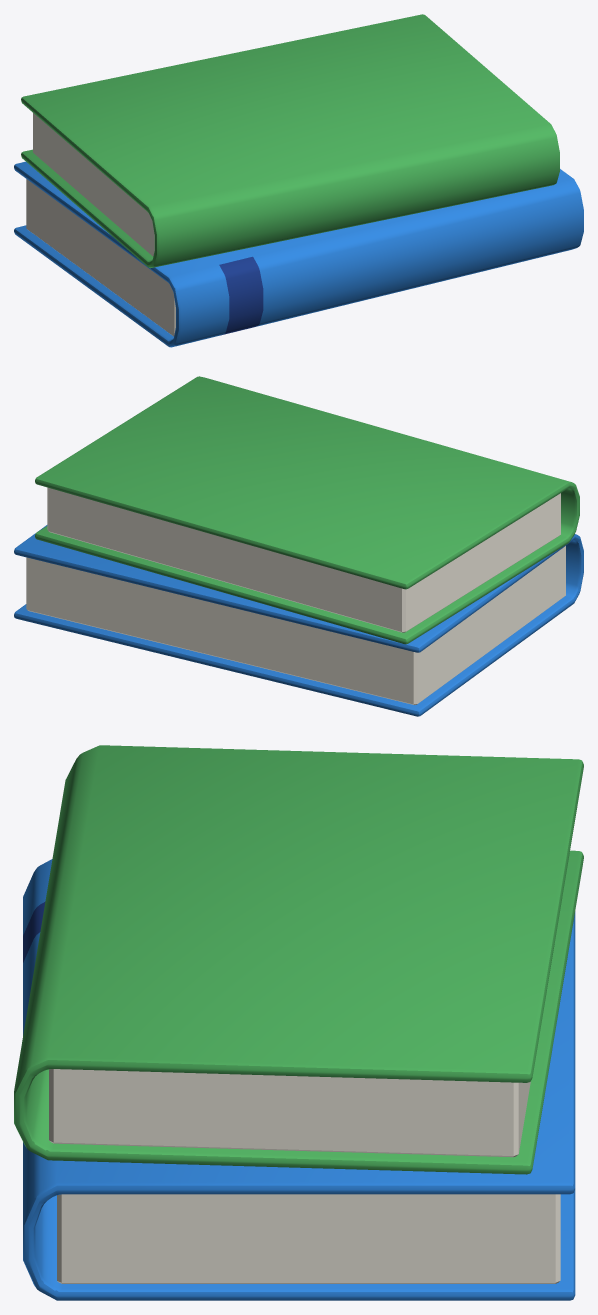
File: livros_pilha_dois.glb
3 renders of one model, top to bottom at view 1: azimuth 30°, elevation 25°; view 2: azimuth 150°, elevation 25°; view 3: azimuth 270°, elevation 25°, orthographic. The views are drawn at different scales.
Visible parts, largest first — view 1: livros_pilha_dois; view 2: livros_pilha_dois; view 3: livros_pilha_dois.
Part boxes in pixels (x1=…): livros_pilha_dois: x1=14, y1=14, x2=583, y2=347; livros_pilha_dois: x1=14, y1=376, x2=583, y2=716; livros_pilha_dois: x1=14, y1=745, x2=583, y2=1300.
Size of the model in its own units: 0.2451 by 0.0755 by 0.1749.
1 material, 1 textured.
